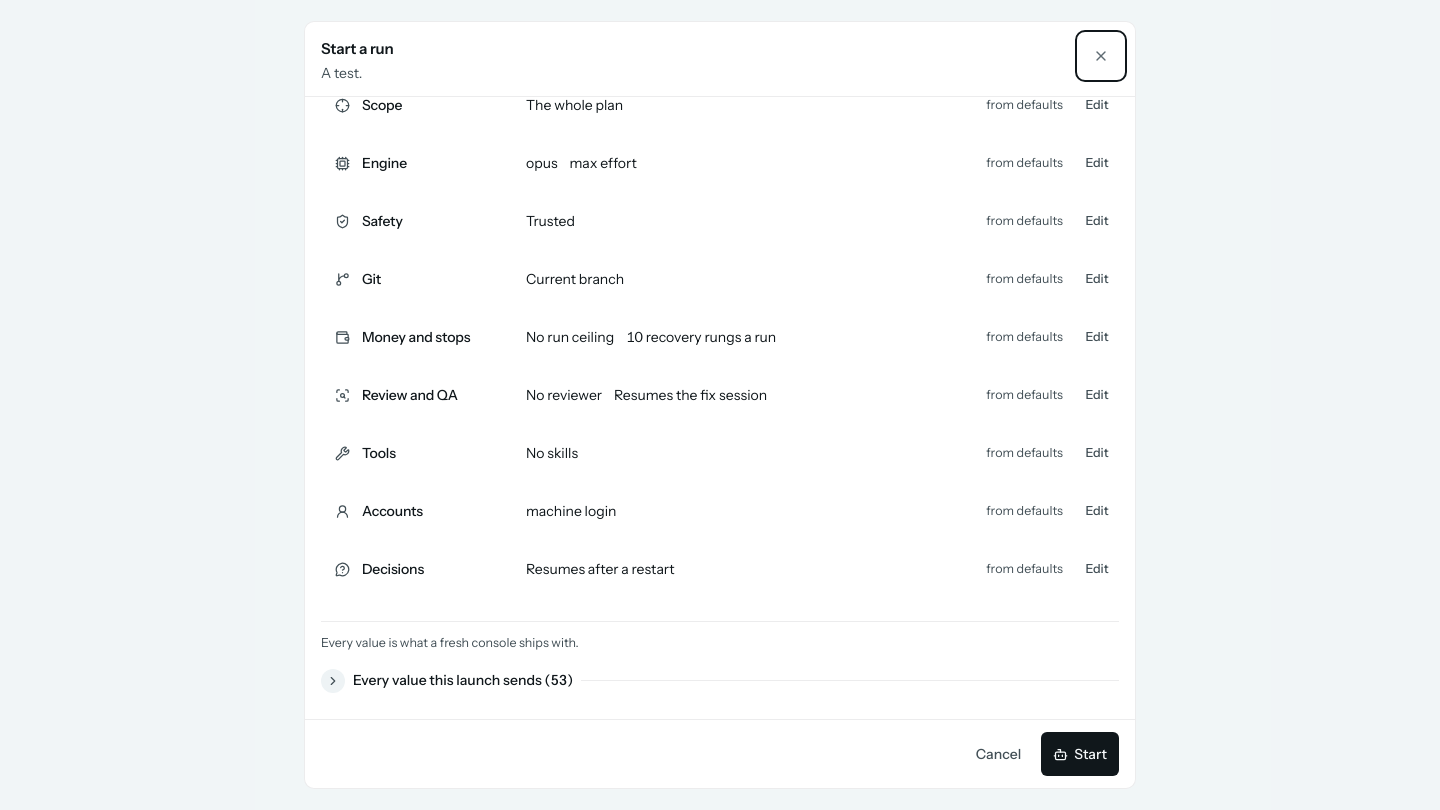
Test: the review, collapsed to what differs › says every value is the shipped one, and folds every value behind one disclosure
This screenshot has width=1440, height=810.
(page scrolled)
Expected: the button "Start" is shown, left=1041, top=732, right=1119, bottom=776
Expected: the text "Every value is what a fresh console ships with." is shown, left=321, top=635, right=579, bottom=650
Click the button "Every value this launch sends (53)" at (463, 680), box left=321, top=658, right=1119, bottom=702
(page scrolled)
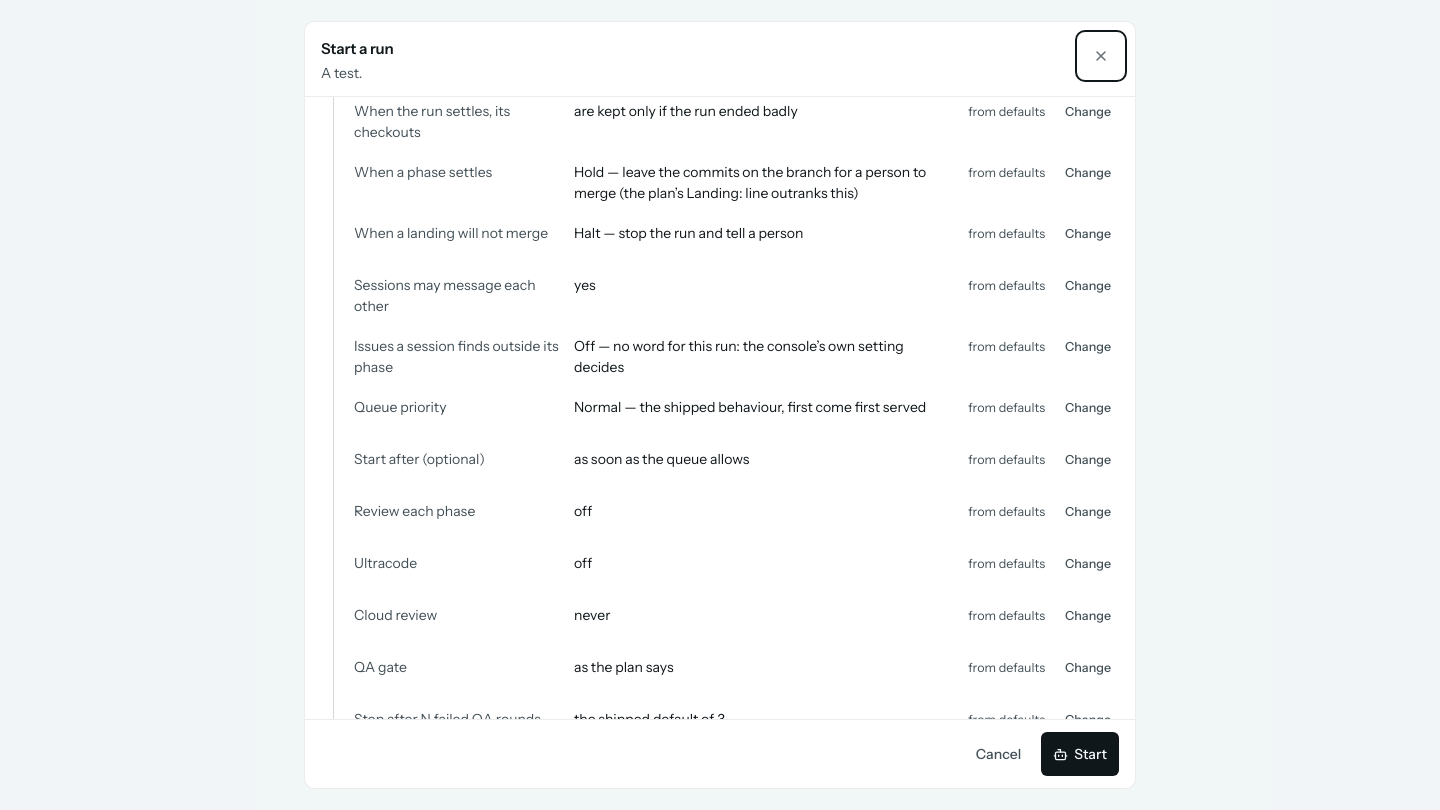
Expected: the text "Queue priority" is shown, left=354, top=398, right=447, bottom=416
